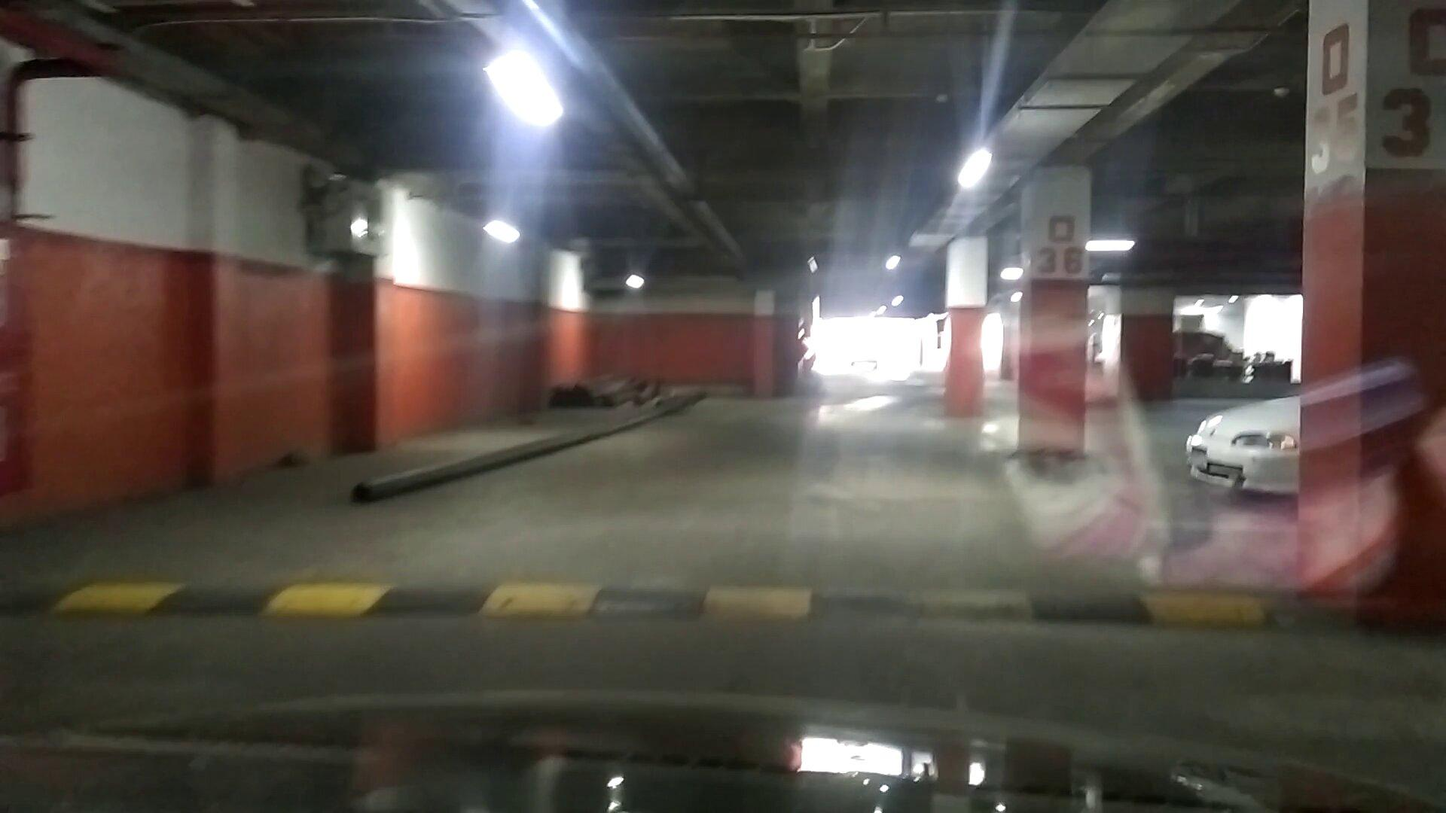Bump: (3, 576, 1285, 630)
